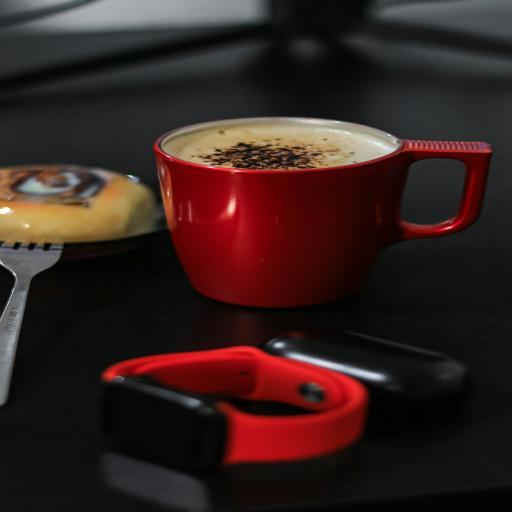cup: (154, 116, 492, 308)
